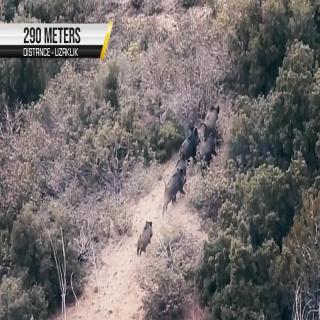Pig: (199, 132, 232, 166), (165, 168, 186, 208), (201, 97, 222, 135), (182, 113, 197, 165), (136, 218, 154, 253), (173, 149, 190, 171)
